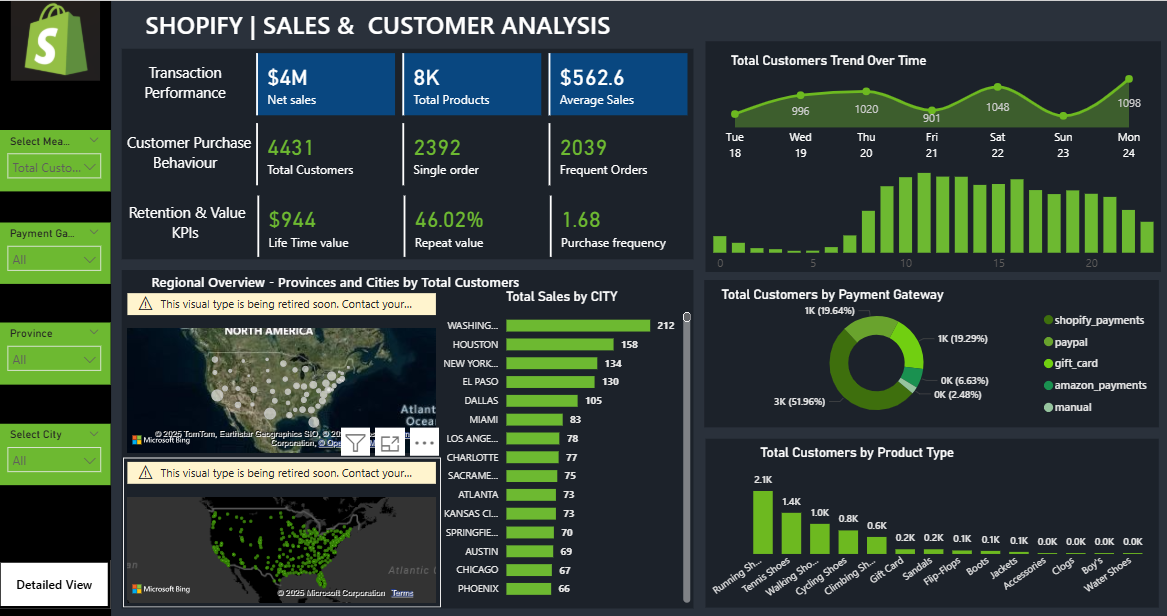

What the dashboard file says about the page in this screenshot:
{"tool":"powerbi","page":{"name":"Main Page","canvas":[1280,720],"ordinal":0},"visuals":[{"type":"shape","box":[0,0,123.8,720],"z":0},{"type":"textbox","box":[136.8,47.9,558.1,49.2],"z":1000},{"type":"shape","box":[135.8,97.4,625.7,230.5],"z":2000},{"type":"cardVisual","fields":{"Data":["shopify_sales.Net sales","shopify_sales.total products sold","shopify_sales.average net sales"]},"box":[277.2,97.4,484.4,78.2],"z":3000},{"type":"cardVisual","fields":{"Data":["shopify_sales.Total Customers","shopify_sales.Single Order Customer","shopify_sales.Frequent Orders"]},"box":[277.2,174.3,484.4,78.2],"z":4000},{"type":"cardVisual","fields":{"Data":["shopify_sales.Life Time value","shopify_sales.Repeat value","shopify_sales.Purchase frequency"]},"box":[278.8,252.5,483.8,77.5],"z":5000},{"type":"textbox","box":[123.5,107,163.3,61.7],"z":6000},{"type":"textbox","box":[123.5,183.9,163.3,61.7],"z":7000},{"type":"textbox","box":[123.5,259.3,163.3,61.7],"z":8000},{"type":"shape","box":[135.8,338.9,625.7,370.5],"z":9000},{"type":"map","fields":{"Size":["shopify_sales.Total Customers"],"Category":["shopify_sales.province location"]},"box":[136.2,360,347.5,185],"z":10000},{"type":"slicer","fields":{"Values":["Parameter.Parameter"]},"box":[0,186,123.1,67],"z":11000},{"type":"map","fields":{"Category":["shopify_sales.Location"]},"box":[136.2,545,347.5,163.8],"z":12000},{"type":"barChart","title":"Total Sales by CITY","fields":{"Y":["shopify_sales.Total Customers"],"Category":["shopify_sales.CITY"]},"box":[470,360,292.5,348.8],"z":13000},{"type":"card","fields":{"Values":["shopify_sales.Maptitle"]},"box":[123.8,327.5,492.5,56.2],"z":14000},{"type":"shape","box":[772.5,350,497.5,161.2],"z":15000},{"type":"shape","box":[773.8,88.8,498.8,252.5],"z":16000},{"type":"stackedAreaChart","fields":{"Y":["shopify_sales.Total Customers"],"Category":["shopify_sales.Invoice Date.Variation.Date Hierarchy.Day","shopify_sales.dayname"]},"box":[772.5,112.5,498.8,121.2],"z":17000},{"type":"columnChart","fields":{"Y":["shopify_sales.Total Customers"],"Category":["shopify_sales.Hour"]},"box":[777.5,208.8,493.8,141.2],"z":18000},{"type":"card","fields":{"Values":["shopify_sales.trendtitle"]},"box":[772.5,97.5,272.5,28.8],"z":19000},{"type":"donutChart","fields":{"Y":["shopify_sales.Total Customers"],"Category":["shopify_sales.Gateway"]},"box":[773.8,370,497.5,141.2],"z":20000},{"type":"card","fields":{"Values":["shopify_sales.GatewayTitle"]},"box":[772.5,350,281.2,33.8],"z":21000},{"type":"shape","box":[773.8,523.8,496.2,185],"z":22000},{"type":"columnChart","fields":{"Y":["shopify_sales.Total Customers"],"Category":["shopify_sales.Product Type"]},"box":[773.8,545,496.2,163.8],"z":23000},{"type":"card","fields":{"Values":["shopify_sales.ProductTitle"]},"box":[772.5,523.8,335,32.5],"z":24000},{"type":"image","box":[6.2,36.2,111.2,100],"z":25000},{"type":"slicer","fields":{"Values":["shopify_sales.Gateway"]},"box":[0,287.2,123.1,67],"z":26000},{"type":"slicer","fields":{"Values":["shopify_sales.Billing Address Province"]},"box":[0,396.7,123.1,68.4],"z":27000},{"type":"slicer","fields":{"Values":["shopify_sales.CITY"]},"box":[0,507.5,123.1,67],"z":28000},{"type":"actionButton","box":[0,656.6,123.1,53.3],"z":28001}]}

Visuals, with their boxes on the page's 1280x720 design canvas (x1, y1, x2, y2). These are canvas units, not pixel positions in the 1167x616 screenshot, which may show the page scaled, cropped or inside an application window:
shape: bbox(0, 0, 124, 720)
textbox: bbox(137, 48, 695, 97)
shape: bbox(136, 97, 762, 328)
cardVisual - shopify_sales.Net sales x shopify_sales.total products sold: bbox(277, 97, 762, 176)
cardVisual - shopify_sales.Total Customers x shopify_sales.Single Order Customer: bbox(277, 174, 762, 252)
cardVisual - shopify_sales.Life Time value x shopify_sales.Repeat value: bbox(279, 252, 763, 330)
textbox: bbox(124, 107, 287, 169)
textbox: bbox(124, 184, 287, 246)
textbox: bbox(124, 259, 287, 321)
shape: bbox(136, 339, 762, 709)
map - shopify_sales.Total Customers x shopify_sales.province location: bbox(136, 360, 484, 545)
slicer - Parameter.Parameter: bbox(0, 186, 123, 253)
map - shopify_sales.Location: bbox(136, 545, 484, 709)
"Total Sales by CITY" barChart: bbox(470, 360, 762, 709)
card - shopify_sales.Maptitle: bbox(124, 328, 616, 384)
shape: bbox(772, 350, 1270, 511)
shape: bbox(774, 89, 1273, 341)
stackedAreaChart - shopify_sales.Total Customers x shopify_sales.Invoice Date.Variation.Date Hierarchy.Day: bbox(772, 112, 1271, 234)
columnChart - shopify_sales.Total Customers x shopify_sales.Hour: bbox(778, 209, 1271, 350)
card - shopify_sales.trendtitle: bbox(772, 98, 1045, 126)
donutChart - shopify_sales.Total Customers x shopify_sales.Gateway: bbox(774, 370, 1271, 511)
card - shopify_sales.GatewayTitle: bbox(772, 350, 1054, 384)
shape: bbox(774, 524, 1270, 709)
columnChart - shopify_sales.Total Customers x shopify_sales.Product Type: bbox(774, 545, 1270, 709)
card - shopify_sales.ProductTitle: bbox(772, 524, 1108, 556)
image: bbox(6, 36, 117, 136)
slicer - shopify_sales.Gateway: bbox(0, 287, 123, 354)
slicer - shopify_sales.Billing Address Province: bbox(0, 397, 123, 465)
slicer - shopify_sales.CITY: bbox(0, 508, 123, 574)
actionButton: bbox(0, 657, 123, 710)
